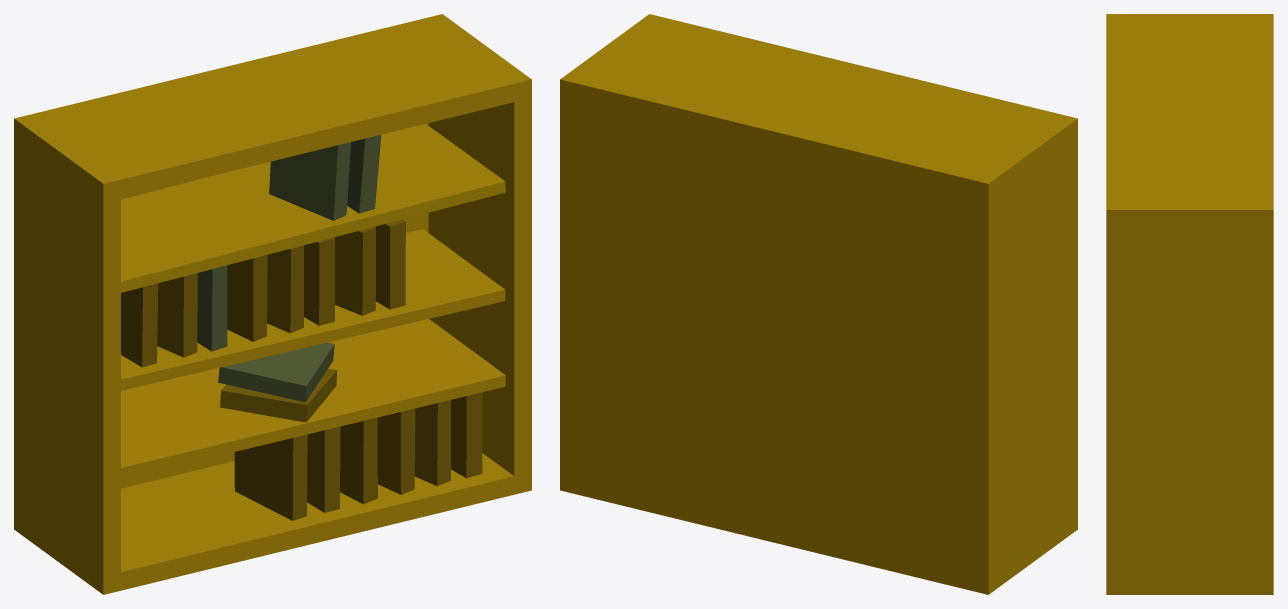
File: bookshelf.glb
The picture shows the model from 3 angles, left to right: view 1: azimuth 30°, elevation 25°; view 2: azimuth 150°, elevation 25°; view 3: azimuth 270°, elevation 25°; orthographic projection. The views are drawn at different scales.
Visible parts, largest first — view 1: Bookshelf-convcol, books.005, books.006, books.007, books.004; view 2: Bookshelf-convcol; view 3: Bookshelf-convcol.
Boxes of the visible parts, x1,y1,x2,y2 form: Bookshelf-convcol: (14, 14, 531, 594); books.005: (121, 219, 405, 367); books.006: (234, 392, 482, 520); books.007: (218, 342, 337, 422); books.004: (269, 134, 381, 220); Bookshelf-convcol: (560, 14, 1077, 594); Bookshelf-convcol: (1106, 14, 1273, 594).
Bounding box in the file's own units: 0.97 × 0.8894 × 0.3505.
